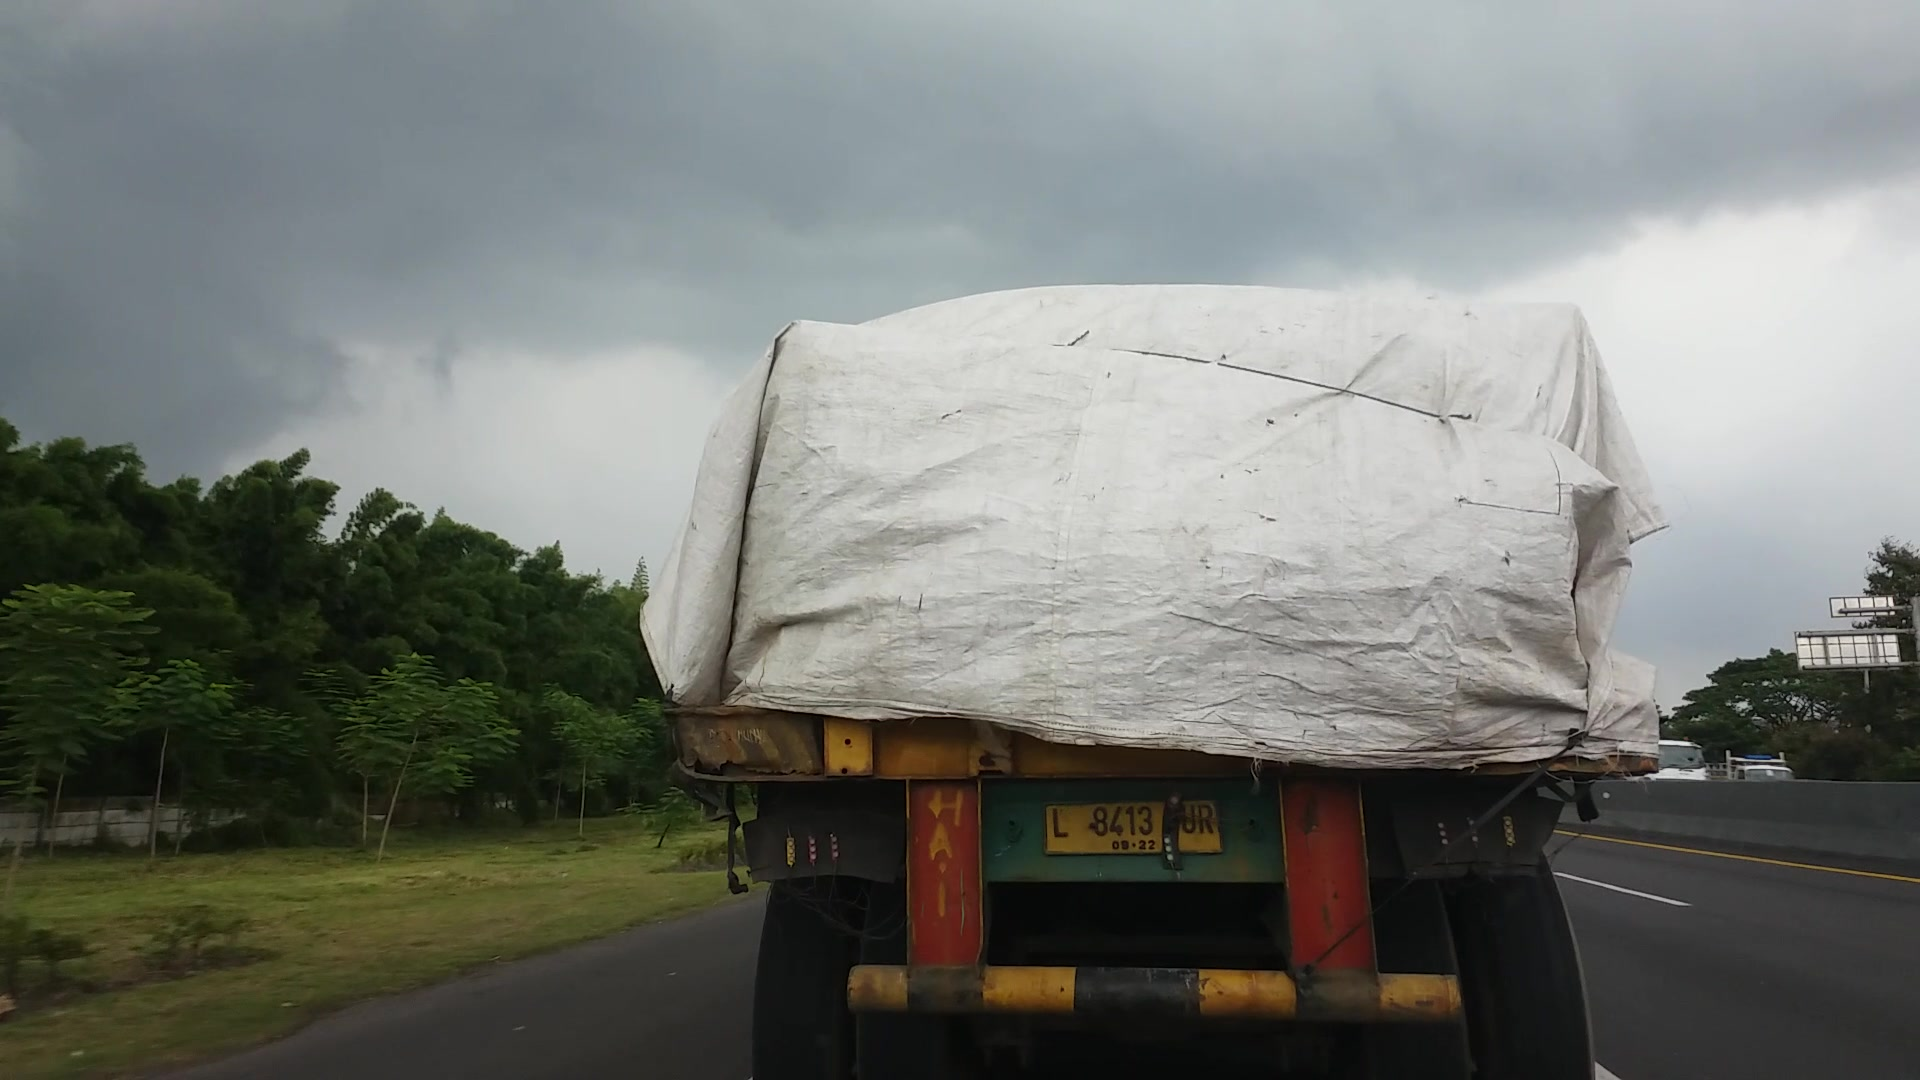plate_positive: (1044, 798, 1220, 853)
